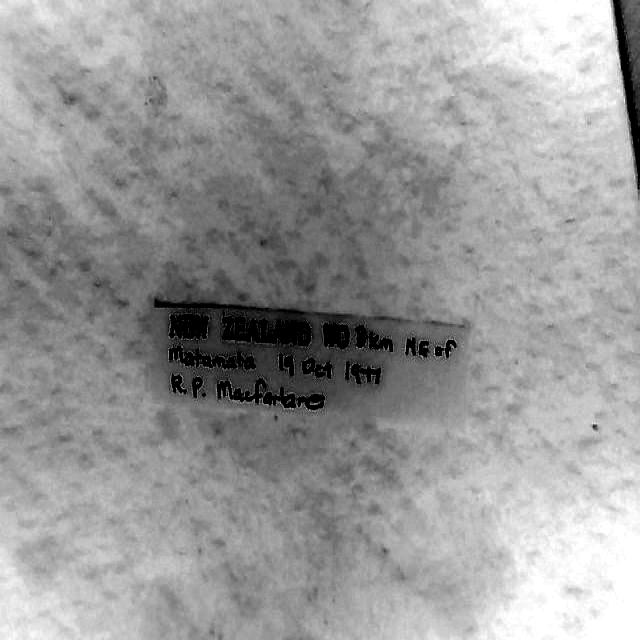mixed_label: (154, 303, 468, 419)
